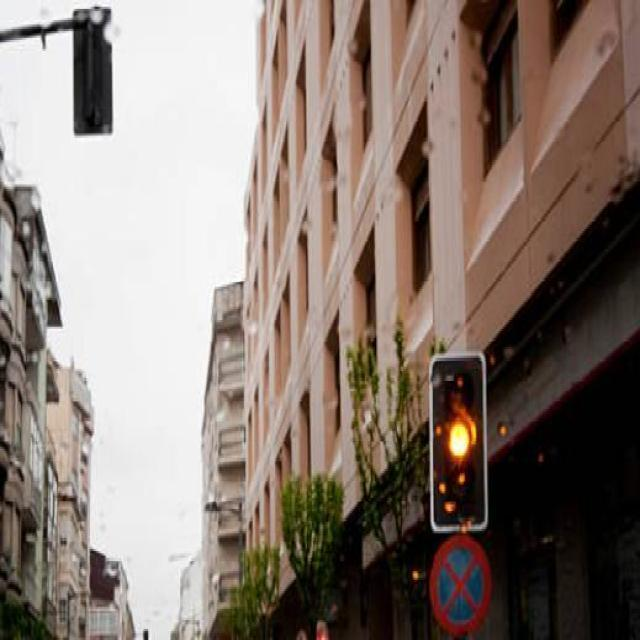yellow_light: (440, 371, 477, 520)
